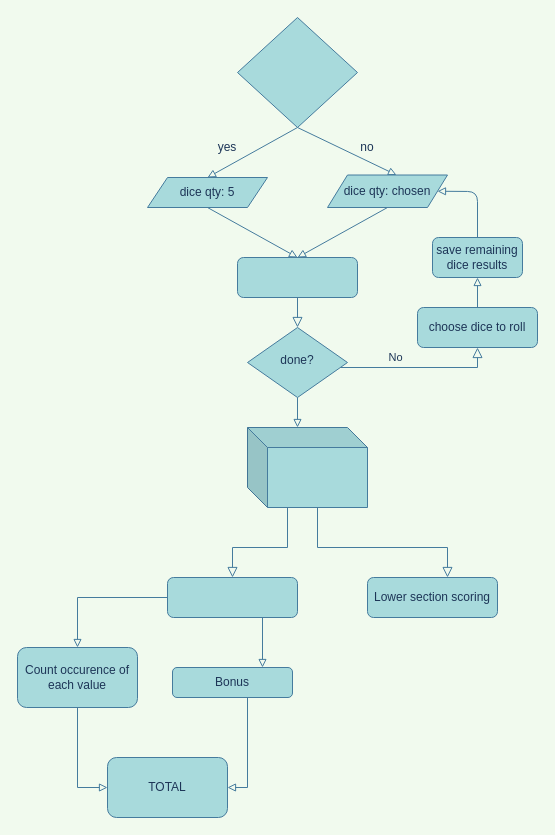
Some shapes in this 555 by 835 pixel diagram are drawn without their labels. The shapes that lost their labels are listed below. From the top down, each one's centre as x and y in pixels, then its label:
[297,72]: beginning of the round?
[297,277]: roll dice
[307,467]: SCORE
[232,597]: Upper section scoring
